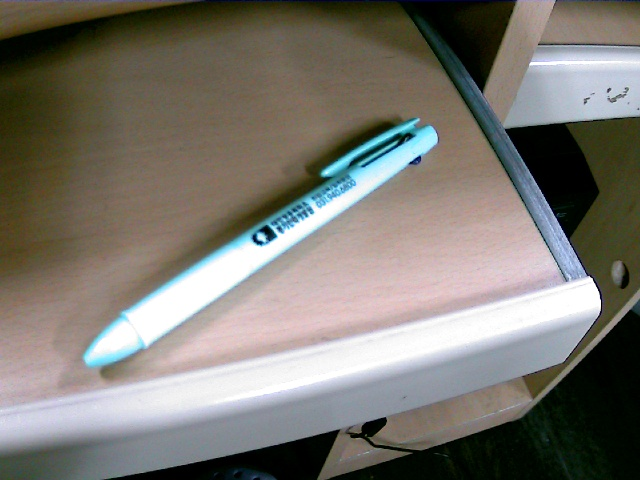pen: (51, 81, 522, 363)
